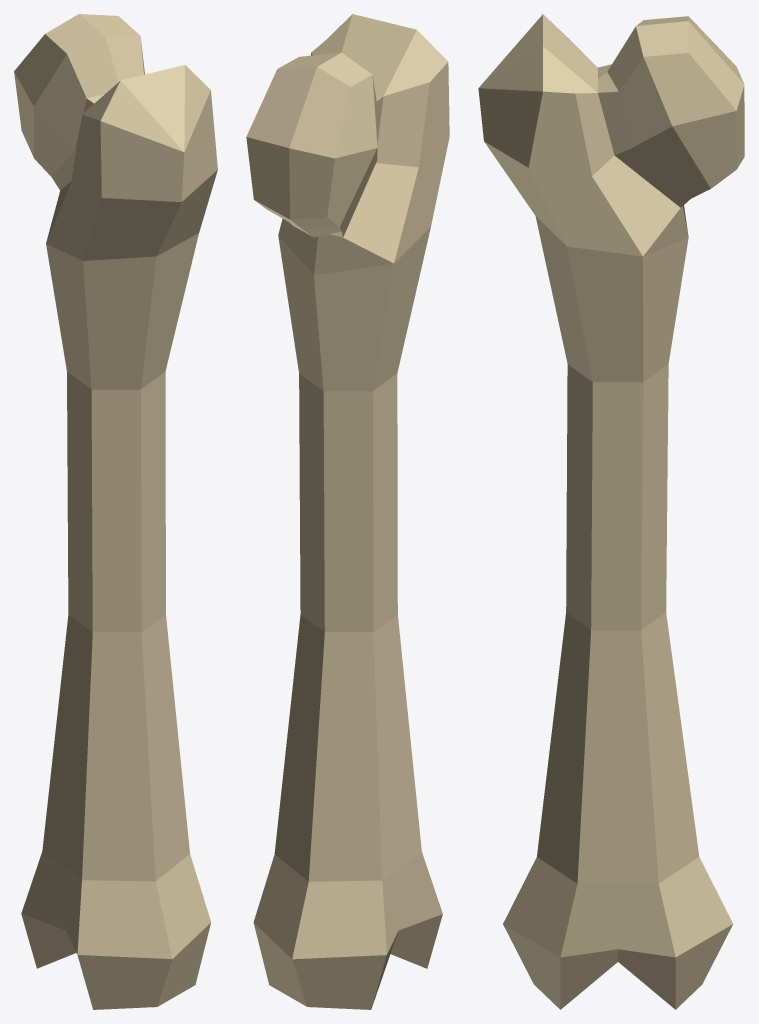
File: Bone.fbx
3 renders of one model, left to right at view 1: azimuth 30°, elevation 25°; view 2: azimuth 150°, elevation 25°; view 3: azimuth 270°, elevation 25°, orthographic. The views are drawn at different scales.
Parts seen in each view (by area): view 1: Bone; view 2: Bone; view 3: Bone.
Part boxes in pixels (x1=…): Bone: x1=14, y1=14, x2=217, y2=1009; Bone: x1=246, y1=14, x2=449, y2=1009; Bone: x1=478, y1=14, x2=744, y2=1009.
Bounding box in the file's own units: 31.05 × 208 × 52.23.
